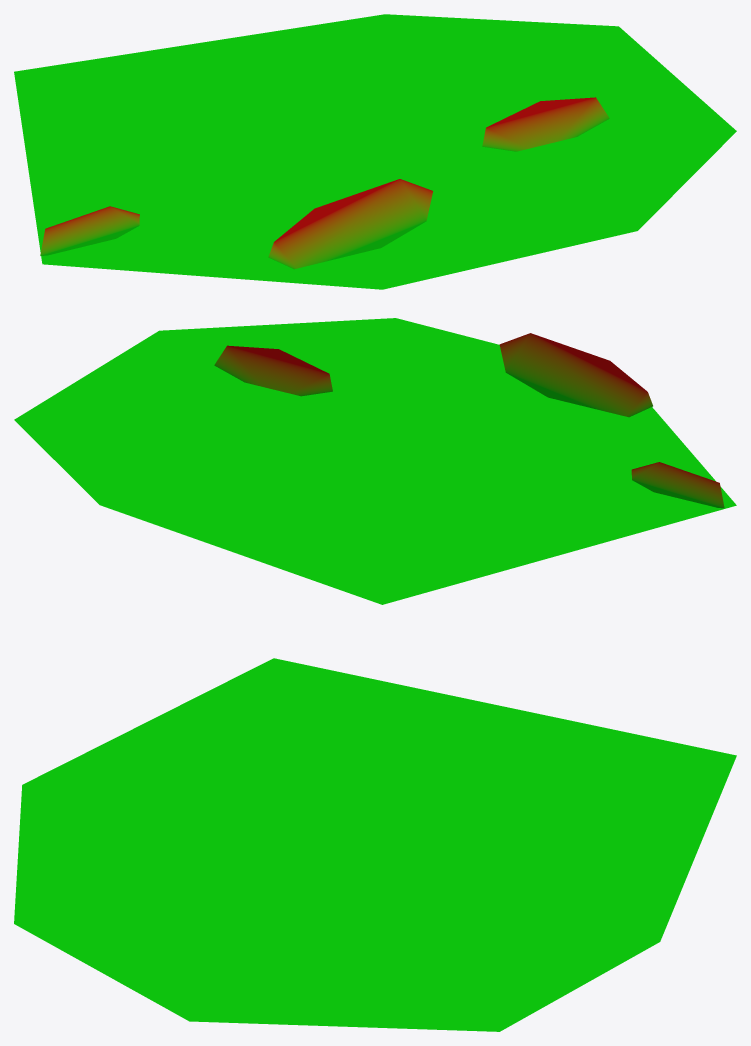
Rendered from Var7_LOD4.fbx.
3 views of the same model, one above another, from view 1: azimuth 30°, elevation 25°; view 2: azimuth 150°, elevation 25°; view 3: azimuth 270°, elevation 25° (orthographic). The views are drawn at different scales.
Visible parts, largest first — view 1: _6a38_Var7_LOD4; view 2: _6a38_Var7_LOD4; view 3: _6a38_Var7_LOD4.
Part boxes in pixels (x1,y1,x2,y2): _6a38_Var7_LOD4: (14,14,736,289); _6a38_Var7_LOD4: (14,318,736,604); _6a38_Var7_LOD4: (14,658,736,1031).
Bounding box in the file's own units: 134 × 14.3 × 110.
